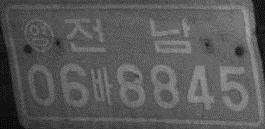0: (26, 63, 56, 107)
4: (185, 65, 215, 110)
5: (218, 64, 249, 112)
6: (58, 62, 89, 108)
8: (147, 63, 180, 110), (115, 63, 146, 108)
바: (90, 66, 113, 106)
영: (22, 17, 55, 53)
전남_D: (63, 16, 193, 55)
